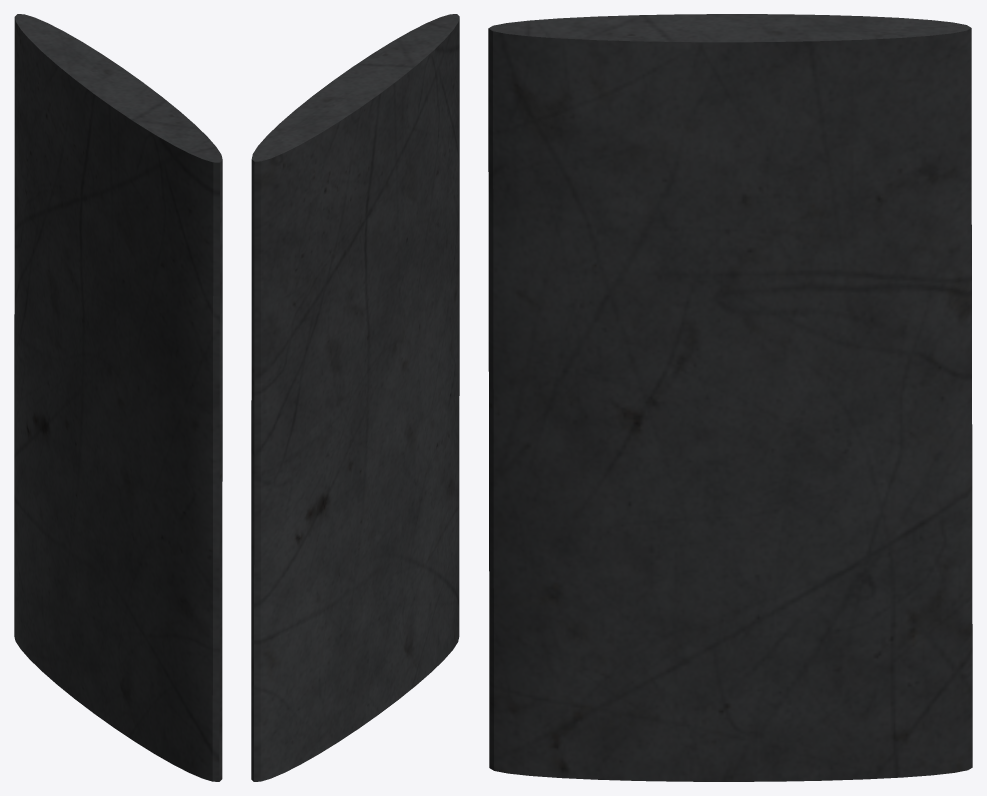
Rendered from bottomTailFin.glb.
3 renders of one model, left to right at view 1: azimuth 30°, elevation 25°; view 2: azimuth 150°, elevation 25°; view 3: azimuth 270°, elevation 25°, orthographic. The views are drawn at different scales.
Parts seen in each view (by area): view 1: Cylinder.020_Material.001_0; view 2: Cylinder.020_Material.001_0; view 3: Cylinder.020_Material.001_0.
Part boxes in pixels (x1,y1,x2,y2): Cylinder.020_Material.001_0: (14,14,222,781); Cylinder.020_Material.001_0: (251,14,459,781); Cylinder.020_Material.001_0: (488,14,972,781).
Size of the model in its own units: 10.75 by 131 by 77.7.
Materials: 1 (1 with a texture image).
